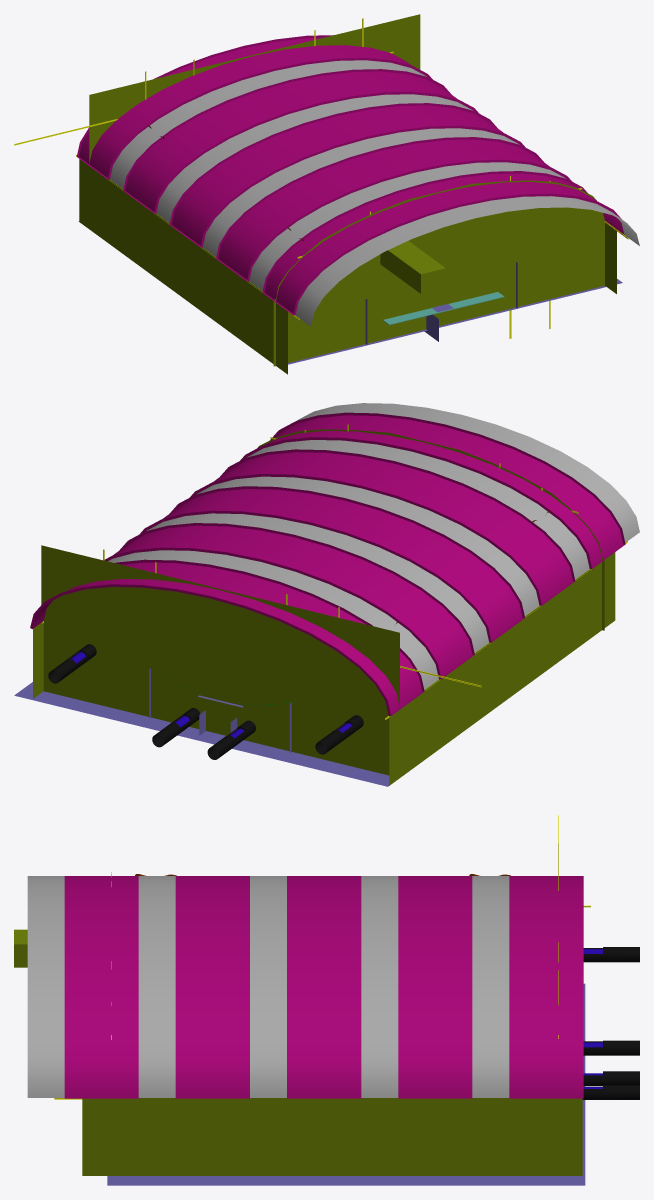
Rendered from Level 1 Map.fbx.
3 renders of one model, top to bottom at view 1: azimuth 30°, elevation 25°; view 2: azimuth 150°, elevation 25°; view 3: azimuth 270°, elevation 25°, orthographic. The views are drawn at different scales.
Visible parts, largest first — view 1: Level_1_Map; view 2: Level_1_Map; view 3: Level_1_Map.
Boxes of the visible parts, bbox=[...] form: Level_1_Map: bbox=[14, 14, 639, 374]; Level_1_Map: bbox=[14, 403, 639, 786]; Level_1_Map: bbox=[14, 815, 639, 1185].
Bounding box in the file's own units: 7672 × 3036 × 8251.
